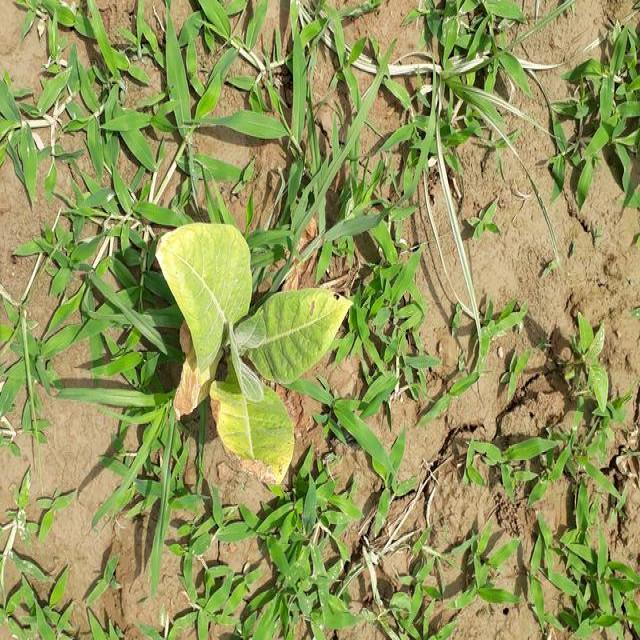crop: (152, 202, 354, 488)
